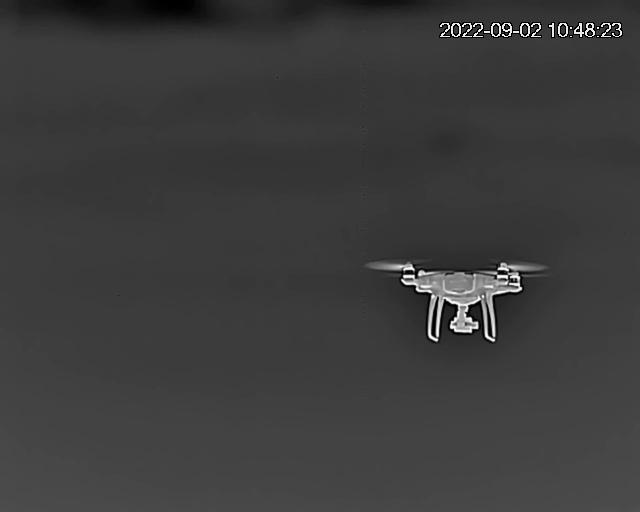DJI-Phantom: (364, 251, 551, 346)
